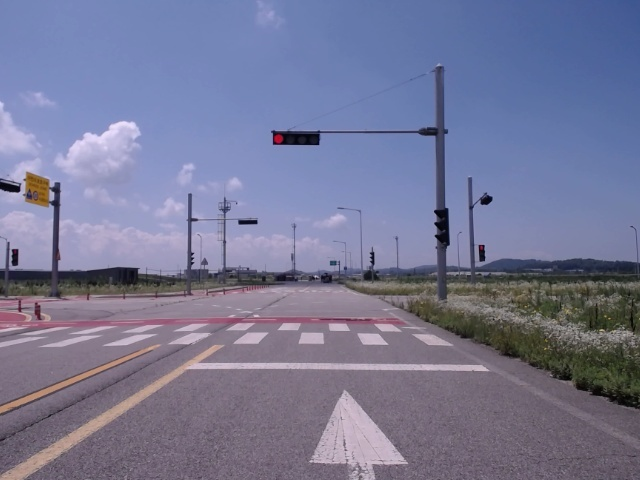red_4: (273, 133, 320, 145)
